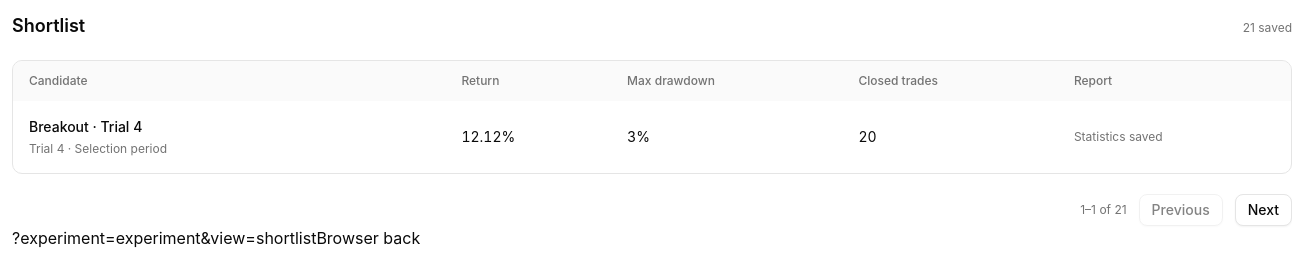
Test: saved candidate shortlist › paginates without requesting all bookmarks and preserves the offset in the URL
The width and height of the screenshot is (1304, 265).
Click the button "Next" at (1263, 210), box [1235,194,1292,226]
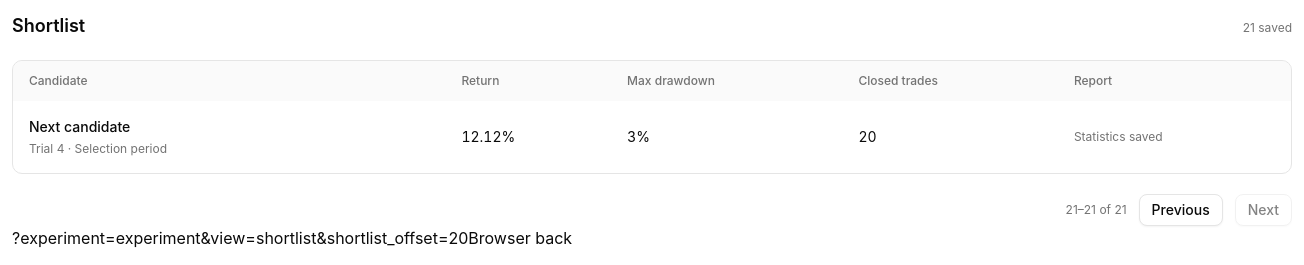
Check: the button "Next candidate" is shown, box [29,117,130,137]
Check: the text with test id "url" shows "shortlist_offset=20", box [12,228,468,248]
